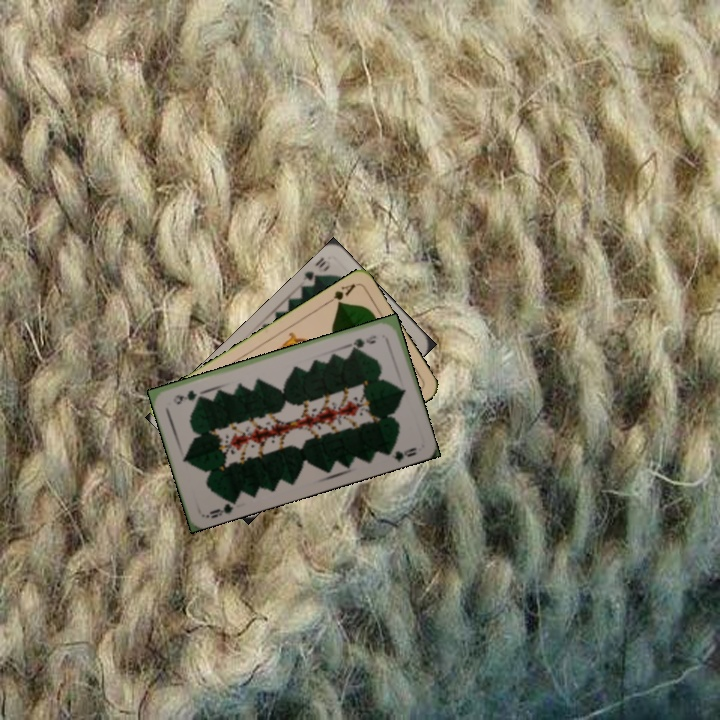G10: (299, 254, 333, 290)
G9: (202, 495, 240, 521), (346, 331, 379, 351)
GA: (322, 279, 358, 308)
